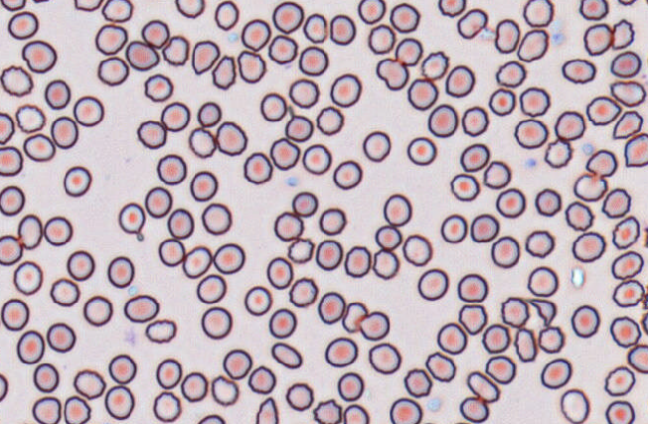PLT: (523, 156, 537, 170), (426, 399, 441, 412), (581, 143, 595, 156), (551, 32, 565, 44), (286, 176, 297, 186)
RBC: (21, 39, 56, 73), (215, 120, 247, 155), (375, 57, 408, 90), (329, 73, 361, 107), (517, 28, 549, 62), (513, 118, 548, 149), (466, 370, 499, 402), (0, 64, 33, 96), (368, 342, 401, 374), (200, 306, 232, 339), (94, 23, 127, 55), (571, 231, 605, 262), (427, 103, 458, 137), (559, 388, 589, 423), (104, 384, 134, 419), (13, 260, 43, 295), (586, 95, 621, 125), (609, 315, 641, 347), (213, 242, 245, 274), (272, 1, 304, 33), (324, 336, 357, 367), (269, 137, 300, 170), (407, 77, 438, 110), (240, 18, 271, 51), (570, 304, 600, 338), (125, 40, 159, 70), (123, 294, 159, 322), (610, 79, 646, 107), (73, 368, 105, 399), (540, 358, 572, 389), (436, 322, 467, 354), (456, 7, 487, 39), (417, 268, 448, 300), (527, 265, 558, 297), (201, 202, 232, 234), (182, 245, 212, 278), (402, 233, 432, 266), (445, 64, 475, 97), (573, 172, 607, 201), (611, 215, 640, 249), (237, 49, 266, 83), (16, 329, 44, 364), (191, 39, 219, 74), (604, 365, 635, 396), (425, 351, 456, 382), (554, 110, 585, 141), (73, 95, 104, 126), (583, 23, 613, 55), (156, 153, 186, 185), (243, 151, 272, 184), (383, 193, 412, 226), (490, 235, 519, 268), (50, 115, 78, 149), (288, 276, 318, 307), (564, 200, 594, 231), (495, 187, 525, 218), (222, 348, 252, 379), (601, 187, 631, 218), (389, 2, 420, 32), (298, 45, 328, 76), (288, 78, 319, 108), (519, 86, 550, 116), (210, 374, 239, 406), (612, 278, 644, 307), (458, 303, 487, 335), (0, 298, 29, 330), (611, 250, 643, 279), (66, 249, 95, 281), (97, 56, 129, 85), (317, 291, 345, 324), (494, 18, 520, 53), (561, 58, 596, 84), (15, 103, 45, 133), (273, 211, 303, 241), (46, 322, 76, 352), (196, 273, 226, 303), (17, 213, 42, 249), (332, 159, 362, 189), (268, 34, 298, 64), (136, 119, 166, 149), (160, 101, 190, 131), (485, 355, 516, 384), (500, 296, 529, 327), (152, 391, 181, 422), (49, 277, 80, 306), (612, 110, 643, 139), (457, 273, 488, 302), (189, 170, 218, 201), (302, 143, 331, 174), (83, 295, 112, 326), (585, 149, 617, 177), (23, 133, 55, 161), (144, 186, 172, 218), (63, 165, 91, 197), (362, 130, 390, 162), (266, 256, 293, 289), (107, 255, 134, 288), (211, 54, 236, 89), (403, 367, 432, 397), (420, 50, 449, 80), (481, 323, 510, 353), (43, 215, 72, 245), (406, 136, 436, 165), (459, 143, 489, 172), (188, 127, 216, 158), (180, 371, 208, 402), (268, 307, 296, 338), (7, 11, 38, 39), (367, 23, 395, 54), (610, 50, 641, 78), (167, 207, 194, 239), (522, 0, 554, 27), (344, 245, 371, 277), (329, 13, 356, 45), (389, 397, 422, 423), (247, 365, 276, 394), (482, 160, 511, 189), (470, 213, 499, 242), (513, 327, 537, 362), (544, 138, 572, 168), (108, 354, 136, 384), (244, 285, 272, 315), (524, 229, 554, 257), (316, 105, 344, 135), (161, 35, 189, 65), (155, 358, 182, 389), (271, 341, 302, 368), (118, 202, 145, 233), (495, 60, 526, 87), (315, 239, 342, 270), (461, 105, 488, 136), (459, 395, 488, 423), (285, 382, 313, 411), (450, 173, 479, 201), (284, 114, 313, 142), (394, 37, 422, 66), (141, 19, 169, 48), (144, 73, 173, 101), (259, 92, 287, 121), (32, 362, 59, 392), (31, 396, 61, 423), (372, 249, 399, 279), (337, 371, 364, 401), (440, 213, 467, 243), (624, 132, 647, 167), (63, 395, 91, 423), (488, 87, 515, 116), (534, 187, 561, 216), (44, 79, 70, 109), (0, 185, 25, 216), (145, 318, 176, 343), (302, 12, 327, 43), (158, 238, 185, 266), (537, 325, 564, 353), (319, 207, 346, 235), (312, 398, 342, 423), (214, 0, 239, 30), (604, 400, 635, 423), (0, 145, 23, 176), (101, 0, 133, 22), (287, 237, 314, 263), (374, 224, 401, 250), (291, 191, 318, 217), (0, 234, 22, 265), (357, 0, 385, 24), (196, 101, 221, 127), (255, 396, 278, 423), (627, 344, 647, 373), (579, 0, 608, 20), (342, 403, 369, 423), (174, 0, 204, 18), (437, 0, 465, 17), (0, 111, 14, 144), (74, 0, 102, 11), (197, 413, 225, 423), (0, 0, 25, 11), (0, 372, 8, 401), (641, 284, 648, 310), (641, 311, 648, 335), (642, 226, 648, 248), (617, 0, 637, 5), (31, 0, 51, 3)
Schistocyte: (342, 299, 368, 334), (527, 297, 557, 325), (613, 19, 636, 50)
